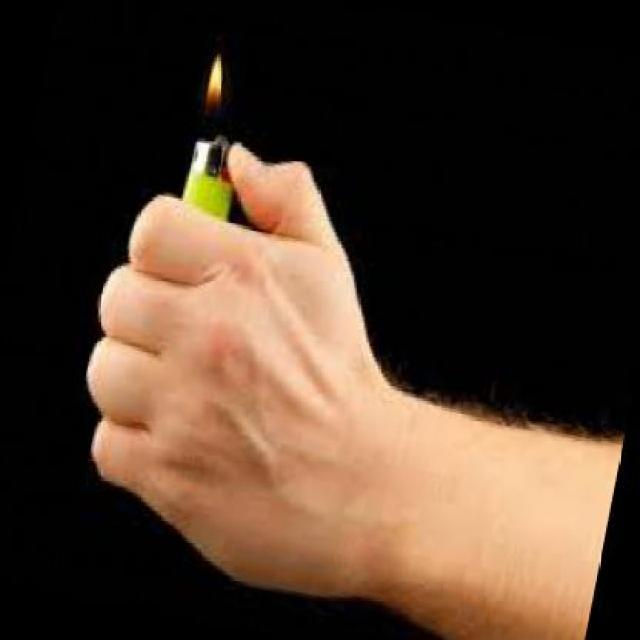Fire: (196, 53, 229, 137)
